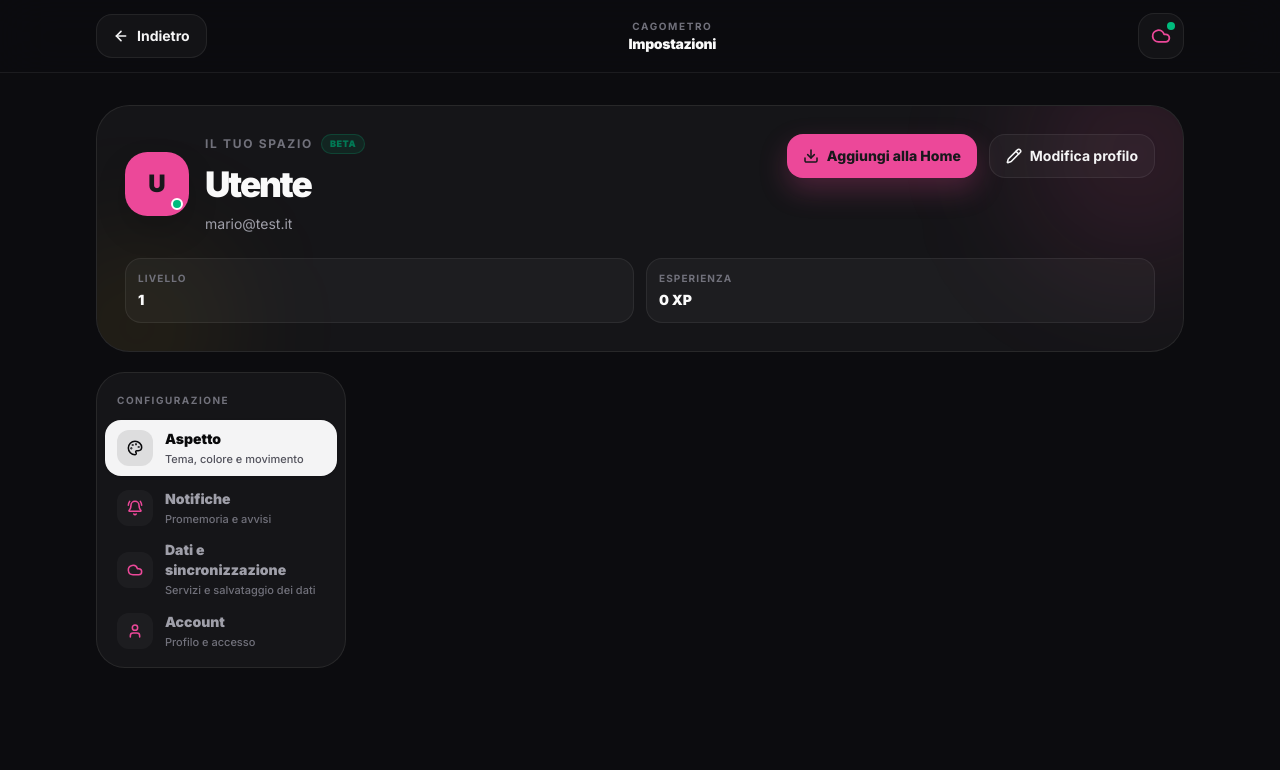
Test: CagometroSettings › mostra il pannello notifiche senza crash
Click the button "Notifiche Promemoria e avvisi". click: (221, 508)
box: [105,480,337,536]
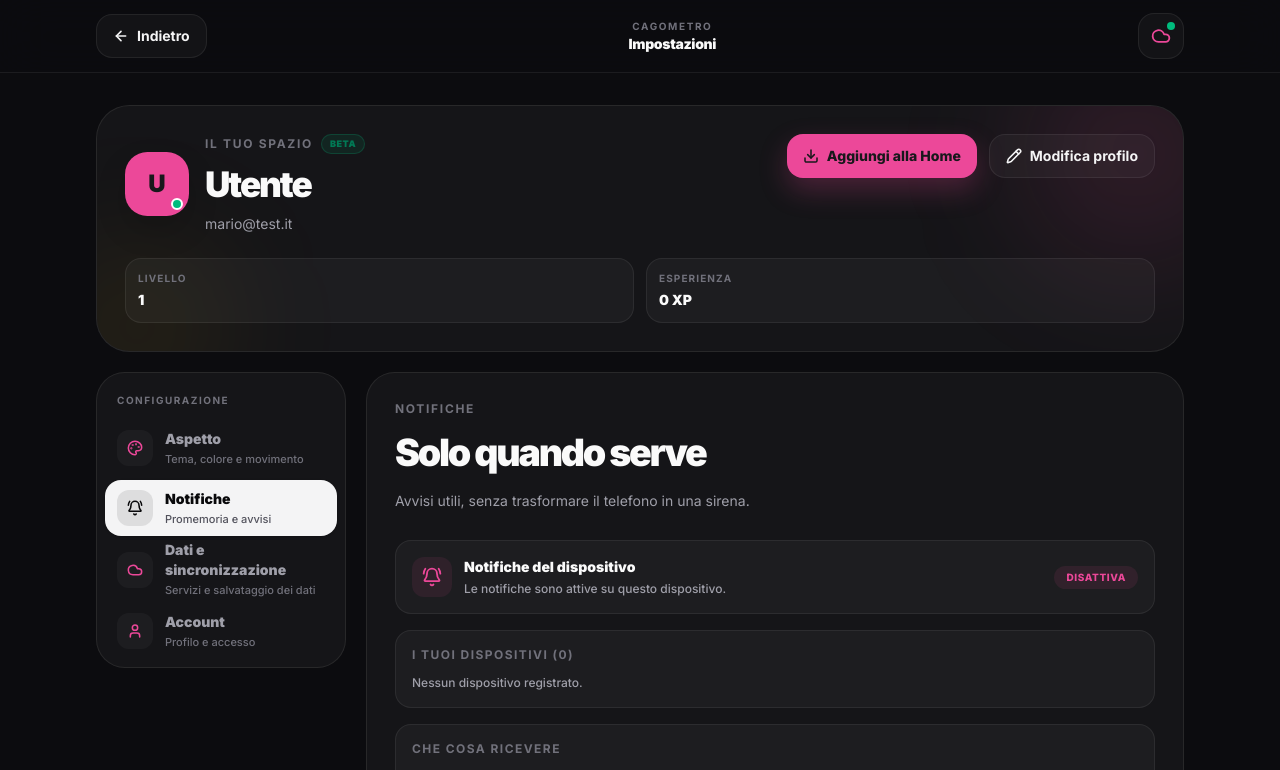
Expected: the text "Notifiche del dispositivo" is shown, [464,558,636,575]
